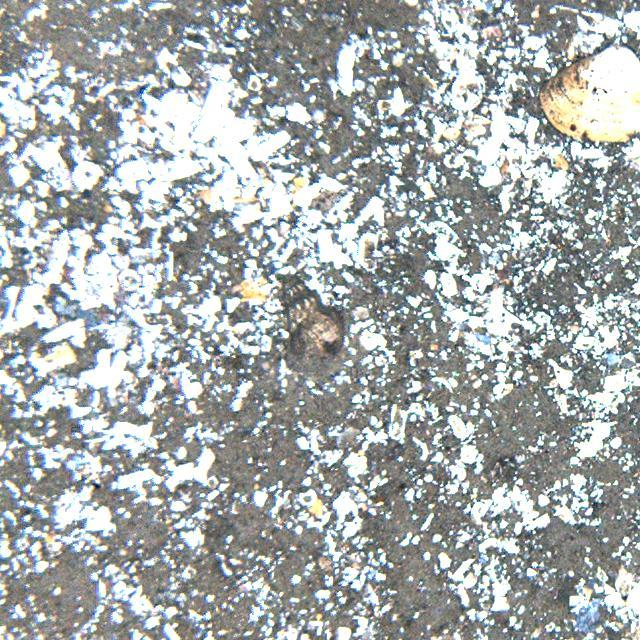whelk: (286, 274, 345, 362)
